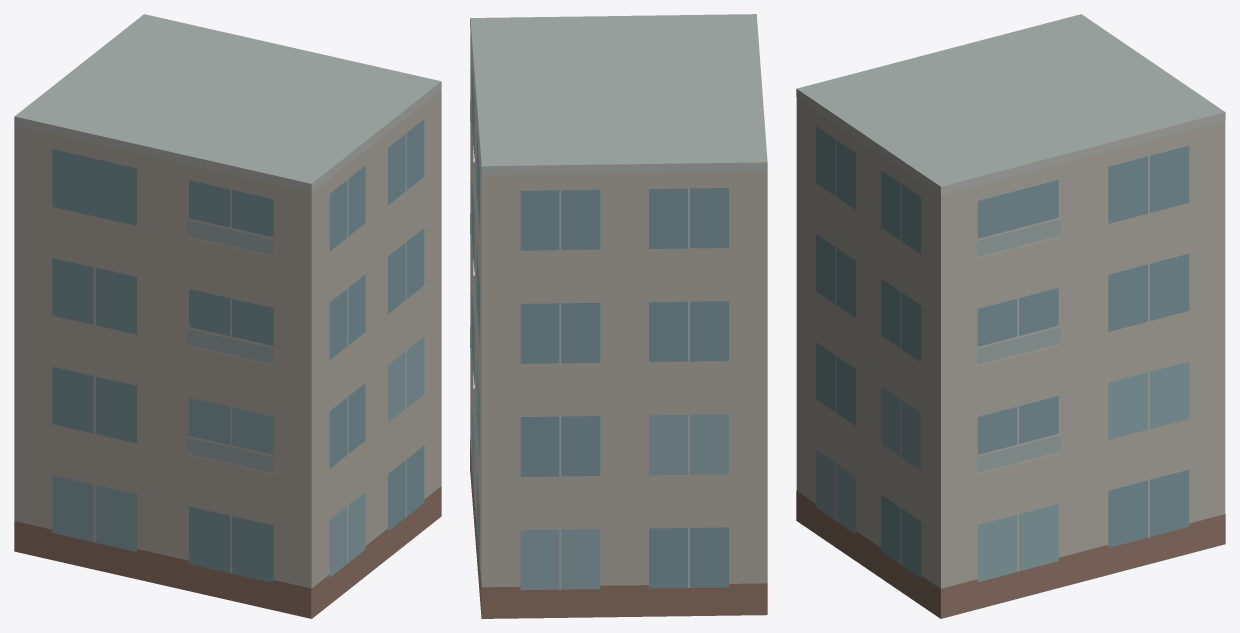
The model's file is residential-44a9d224-a5e4-40d1-8e1a-d4a7e39df07f.glb.
3 views of the same model, side by side, from view 1: azimuth 30°, elevation 25°; view 2: azimuth 150°, elevation 25°; view 3: azimuth 270°, elevation 25° (orthographic). The views are drawn at different scales.
Parts seen in each view (by area): view 1: residential-44a9d224-a5e4-40d1-8e1a-d4a7e39df07f.tmp; view 2: residential-44a9d224-a5e4-40d1-8e1a-d4a7e39df07f.tmp; view 3: residential-44a9d224-a5e4-40d1-8e1a-d4a7e39df07f.tmp.
Part boxes in pixels (left/top/right/bottom): residential-44a9d224-a5e4-40d1-8e1a-d4a7e39df07f.tmp: left=14, top=14, right=441, bottom=618; residential-44a9d224-a5e4-40d1-8e1a-d4a7e39df07f.tmp: left=470, top=14, right=767, bottom=618; residential-44a9d224-a5e4-40d1-8e1a-d4a7e39df07f.tmp: left=796, top=14, right=1225, bottom=618.
Size of the model in its own units: 10.47 by 12.2 by 10.99.
